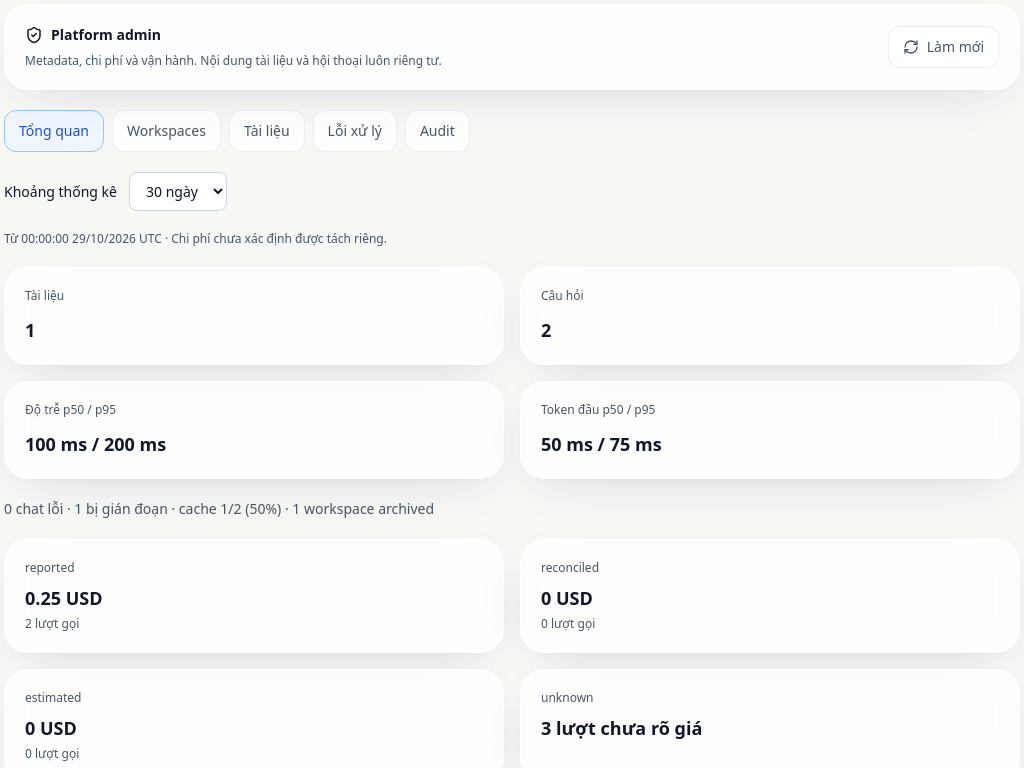
clears all panels on a revoked role response and aborts other in-flight reads
This screenshot has width=1024, height=768.
Expected: the text "0.25 USD" is shown, left=25, top=586, right=102, bottom=610
Click the button "Làm mới" at (943, 47), box left=888, top=26, right=999, bottom=68
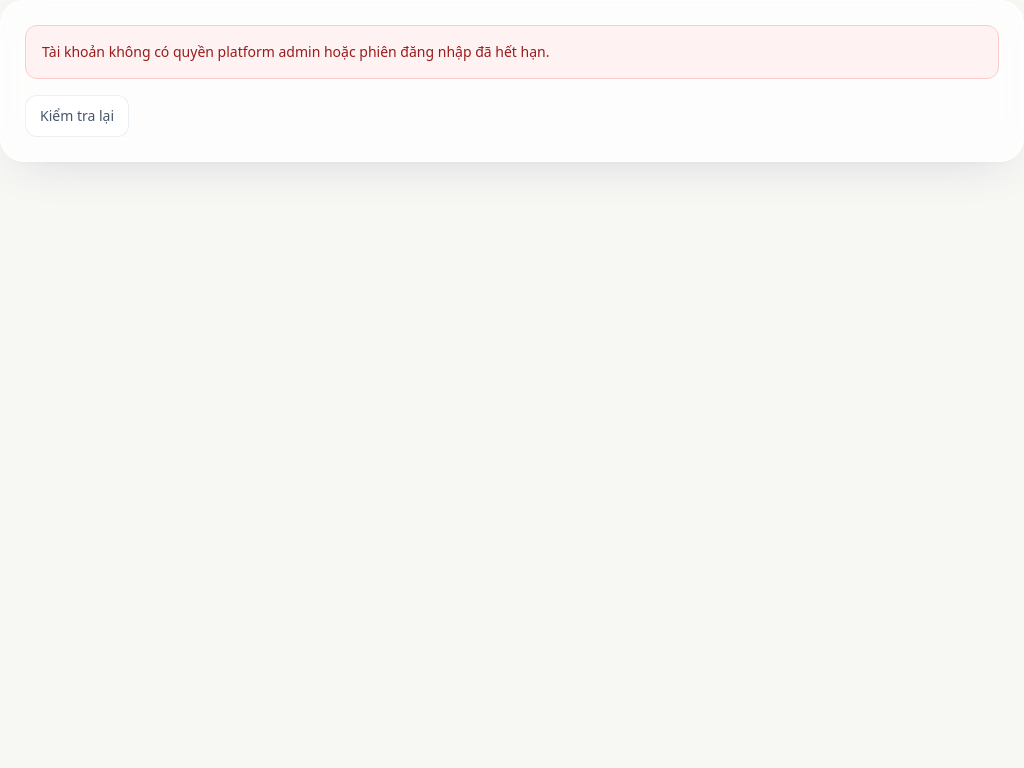
Now the message "Tài khoản không có quyền platform admin hoặc phiên đăng nhập đã hết hạn." is shown, box left=25, top=25, right=999, bottom=79
Now the text "0.25 USD" is gone
Now the navigation bar is gone
